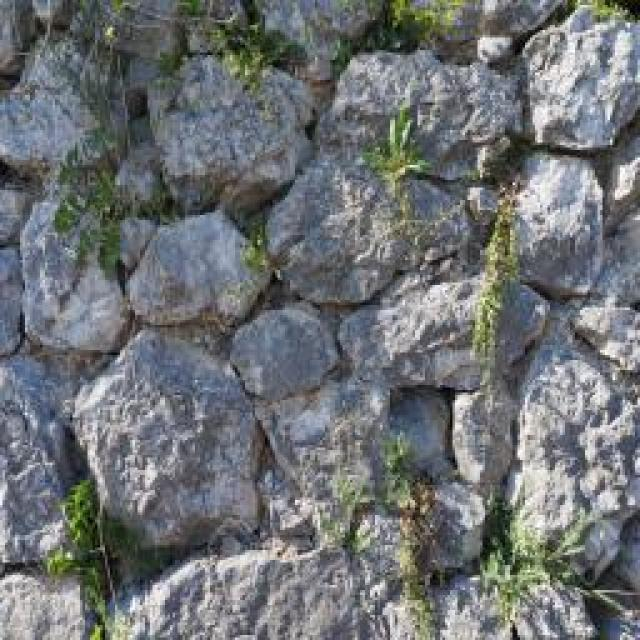crack: (1, 1, 638, 638), (378, 463, 579, 614), (48, 478, 124, 628)
